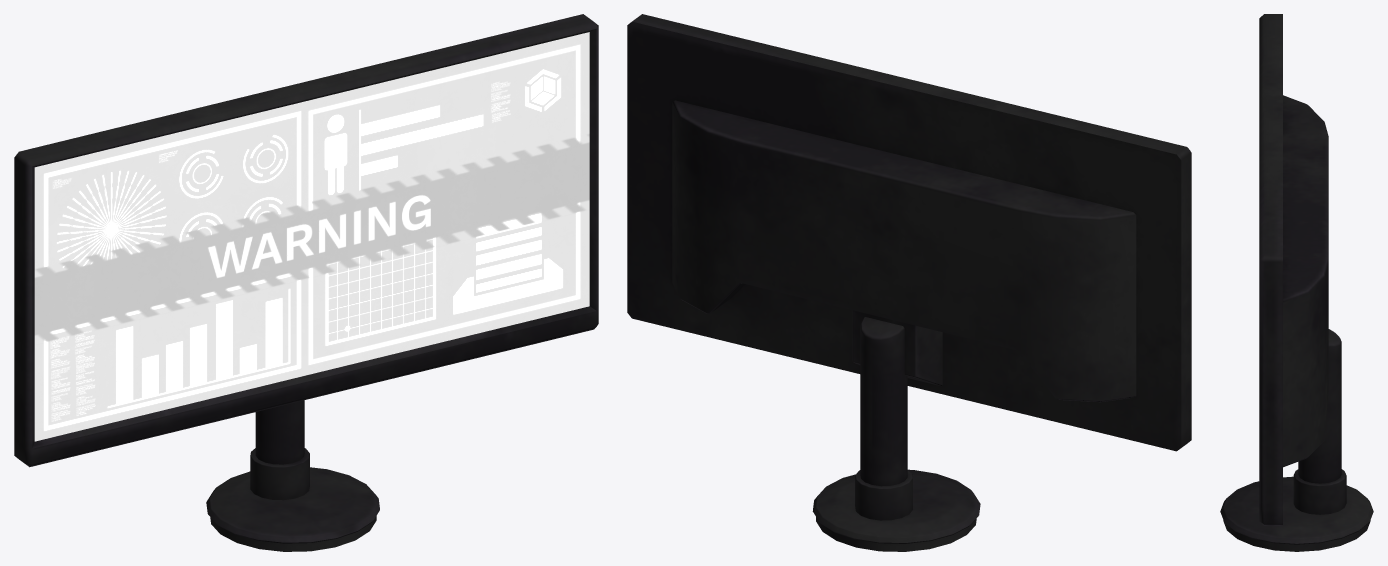
File: lab_monitor.glb
3 views of the same model, side by side, from view 1: azimuth 30°, elevation 25°; view 2: azimuth 150°, elevation 25°; view 3: azimuth 270°, elevation 25° (orthographic). The views are drawn at different scales.
Parts seen in each view (by area): view 1: SM_Monitor; view 2: SM_Monitor; view 3: SM_Monitor.
Boxes of the visible parts, x1=… form: SM_Monitor: x1=14, y1=14, x2=598, y2=551; SM_Monitor: x1=627, y1=14, x2=1191, y2=551; SM_Monitor: x1=1220, y1=14, x2=1373, y2=551.
Size of the model in its own units: 78.91 by 57.77 by 20.83.
2 materials, 2 textured.
